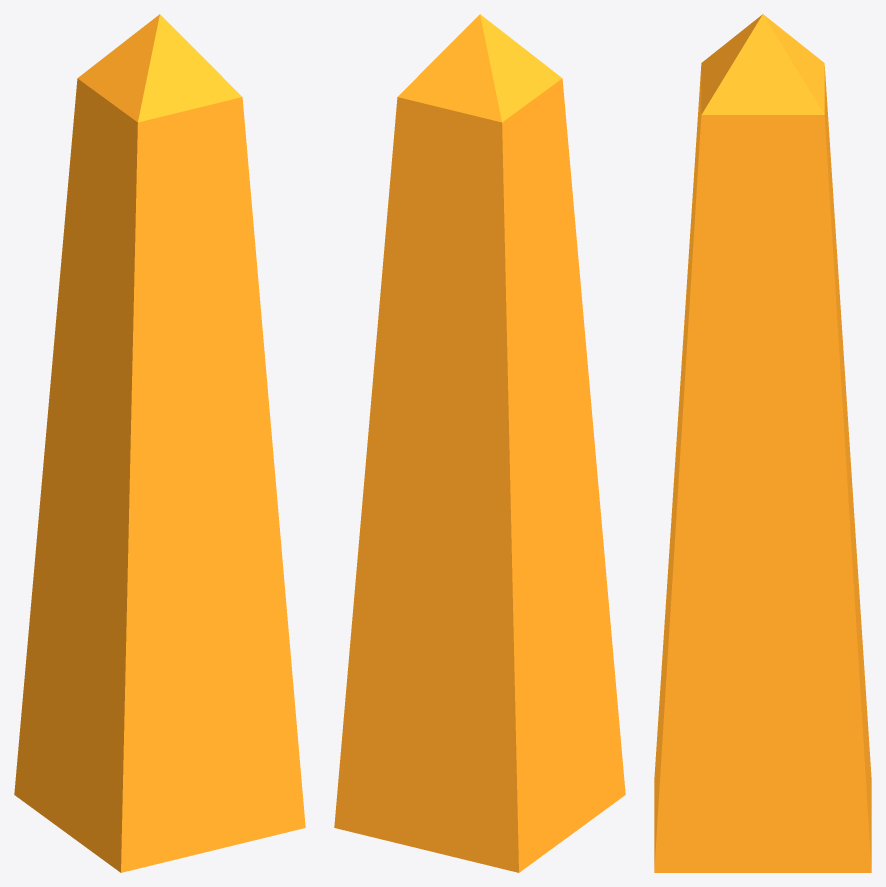
File: monolito.fbx
3 views of the same model, side by side, from view 1: azimuth 30°, elevation 25°; view 2: azimuth 150°, elevation 25°; view 3: azimuth 270°, elevation 25° (orthographic).
Parts seen in each view (by area): view 1: Monolito; view 2: Monolito; view 3: Monolito.
Boxes of the visible parts, x1,y1,x2,y2 form: Monolito: (14, 14, 305, 872); Monolito: (334, 14, 625, 872); Monolito: (654, 14, 871, 872).
Bounding box in the file's own units: 353 × 1456 × 353.
